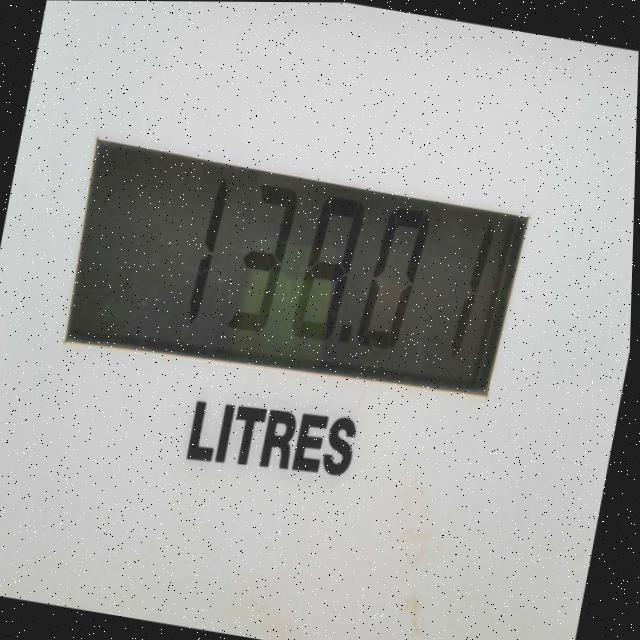.: (336, 308, 359, 357)
0: (347, 194, 438, 376)
1: (427, 210, 504, 374), (170, 177, 246, 334)
3: (216, 173, 312, 362)
8: (281, 182, 371, 372)
